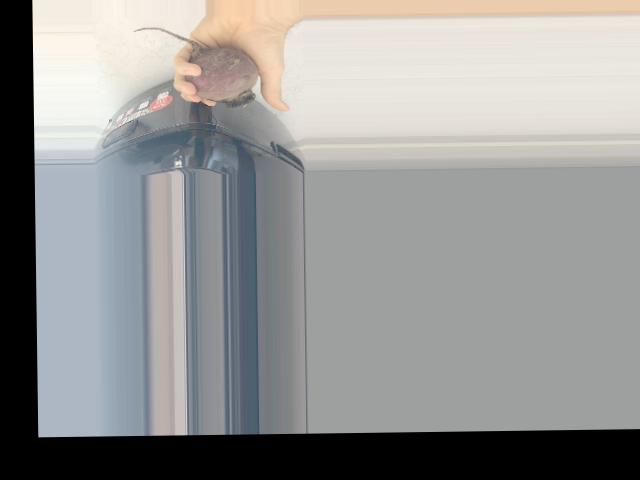beet: (132, 25, 258, 108)
